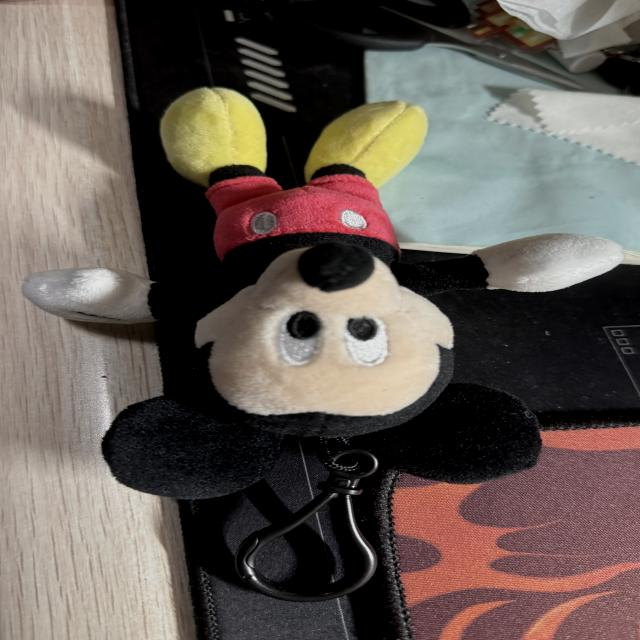mickey: (24, 89, 622, 498)
